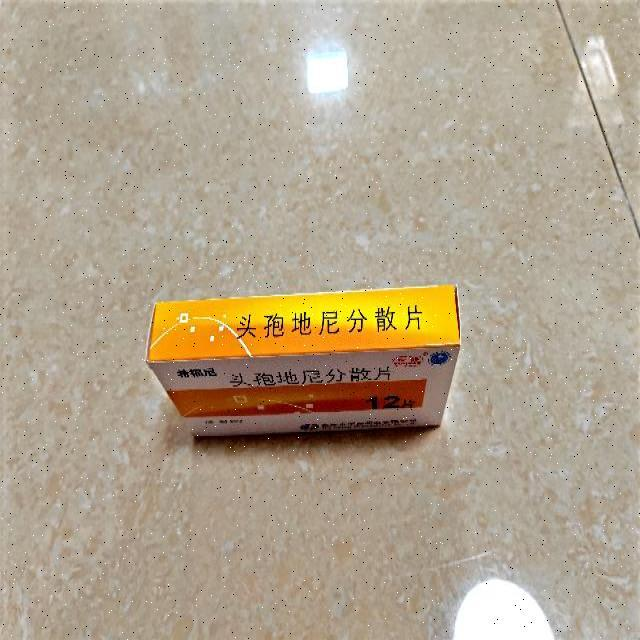box: (146, 282, 462, 438)
